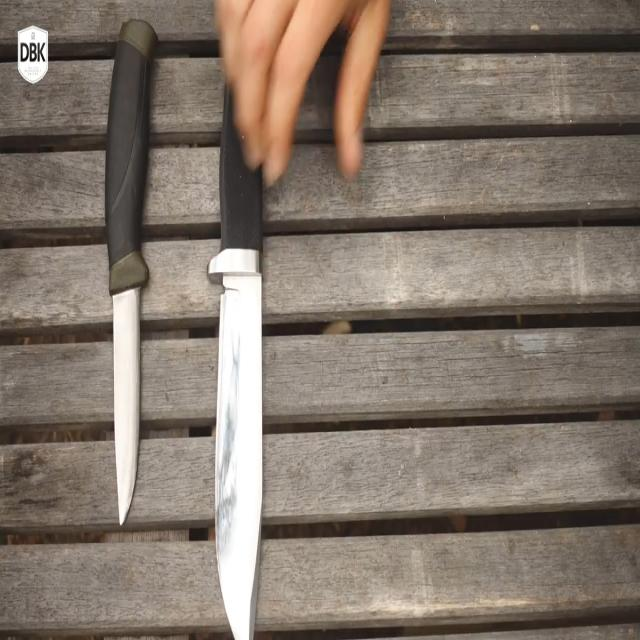knife: (99, 18, 169, 544), (208, 172, 272, 640)
